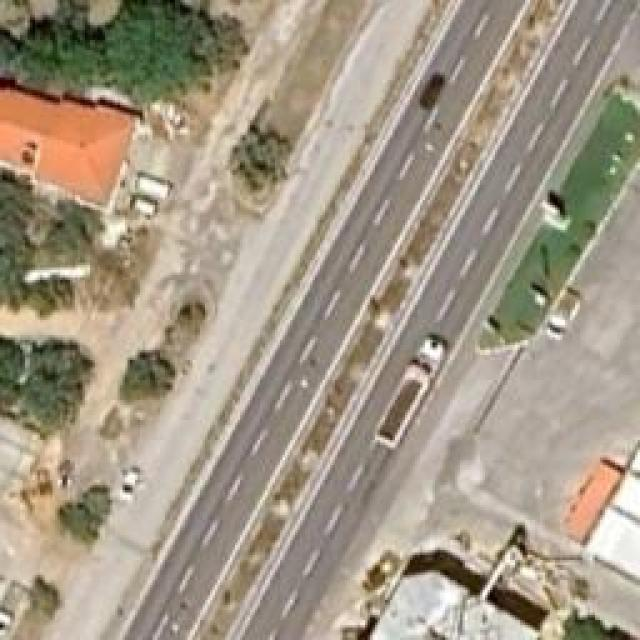Tree: (25, 342, 85, 420), (233, 127, 296, 195), (58, 485, 113, 540), (118, 348, 173, 401), (27, 575, 65, 613)
